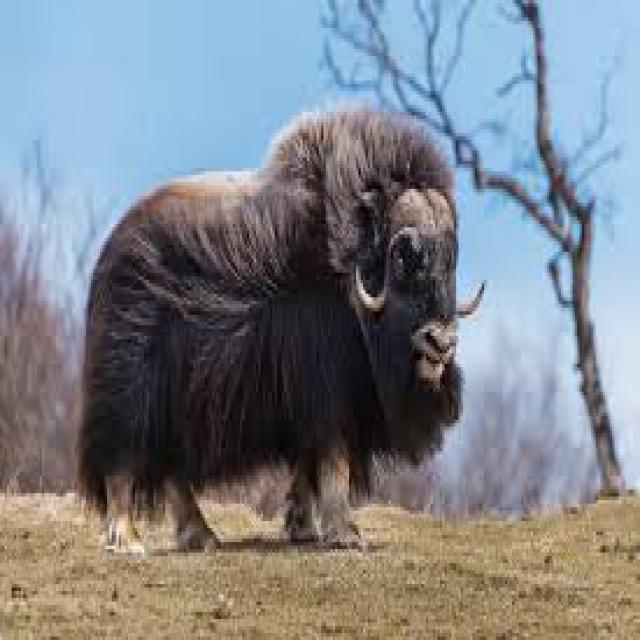Ox: (77, 104, 483, 554)
